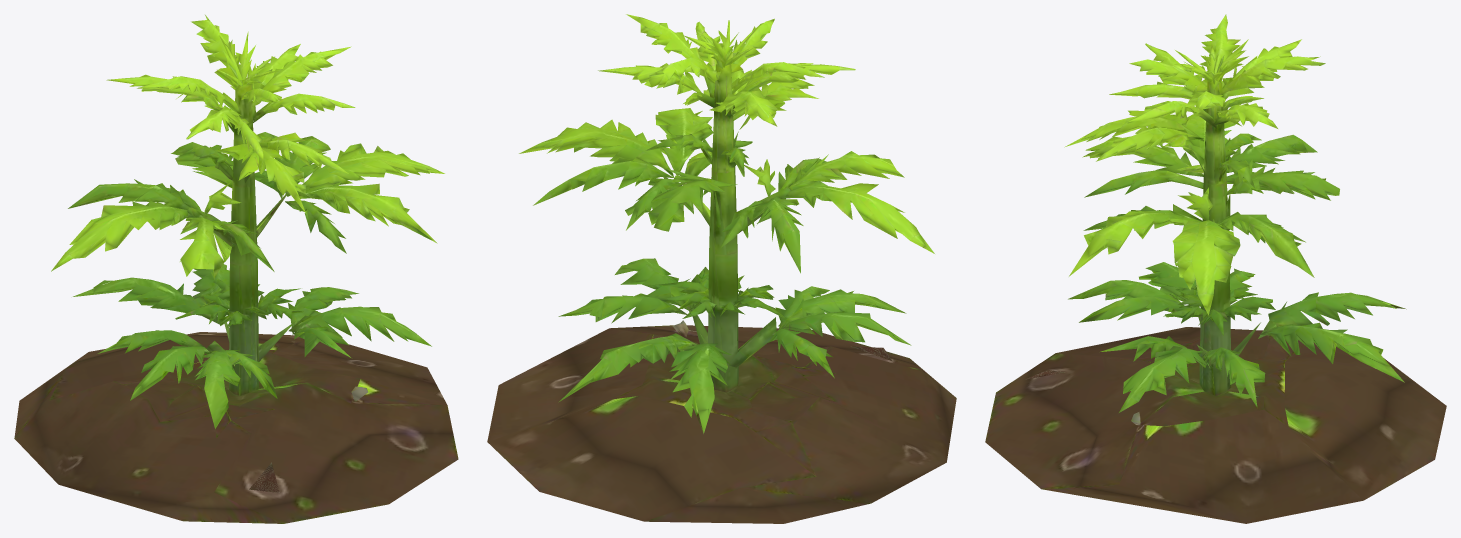
Rendered from canna_mid.glb.
3 renders of one model, left to right at view 1: azimuth 30°, elevation 25°; view 2: azimuth 150°, elevation 25°; view 3: azimuth 270°, elevation 25°, orthographic. The views are drawn at different scales.
Size of the model in its own units: 1 by 0.918 by 0.998.
Materials: 1 (1 with a texture image).
